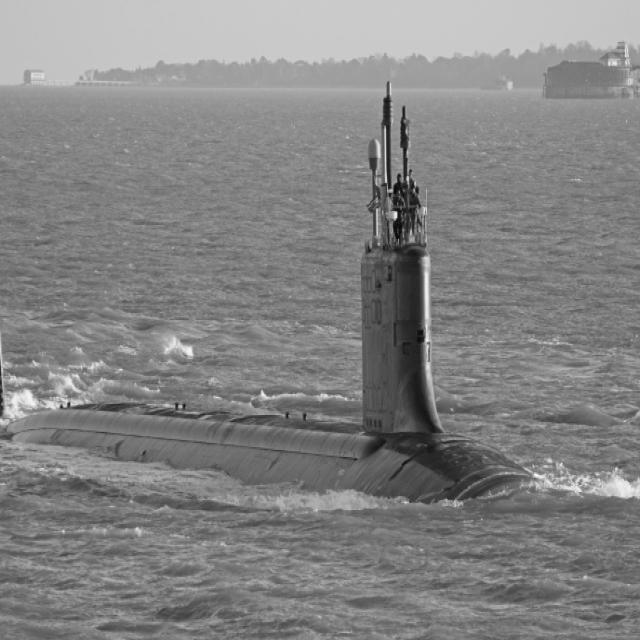submarine: (1, 191, 551, 504)
